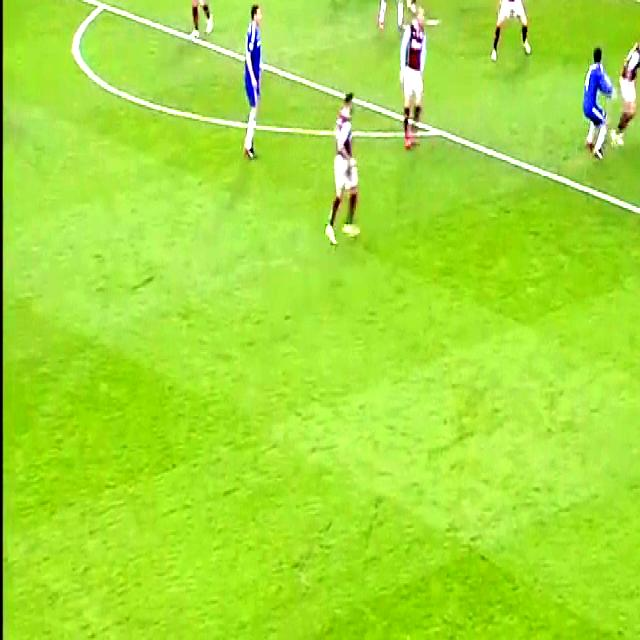soccer-player: (319, 85, 364, 256), (237, 0, 275, 165), (396, 0, 433, 157), (577, 33, 615, 166), (608, 20, 640, 151), (482, 0, 531, 73), (176, 0, 214, 46), (375, 0, 408, 32), (327, 0, 363, 12), (406, 0, 435, 7)
